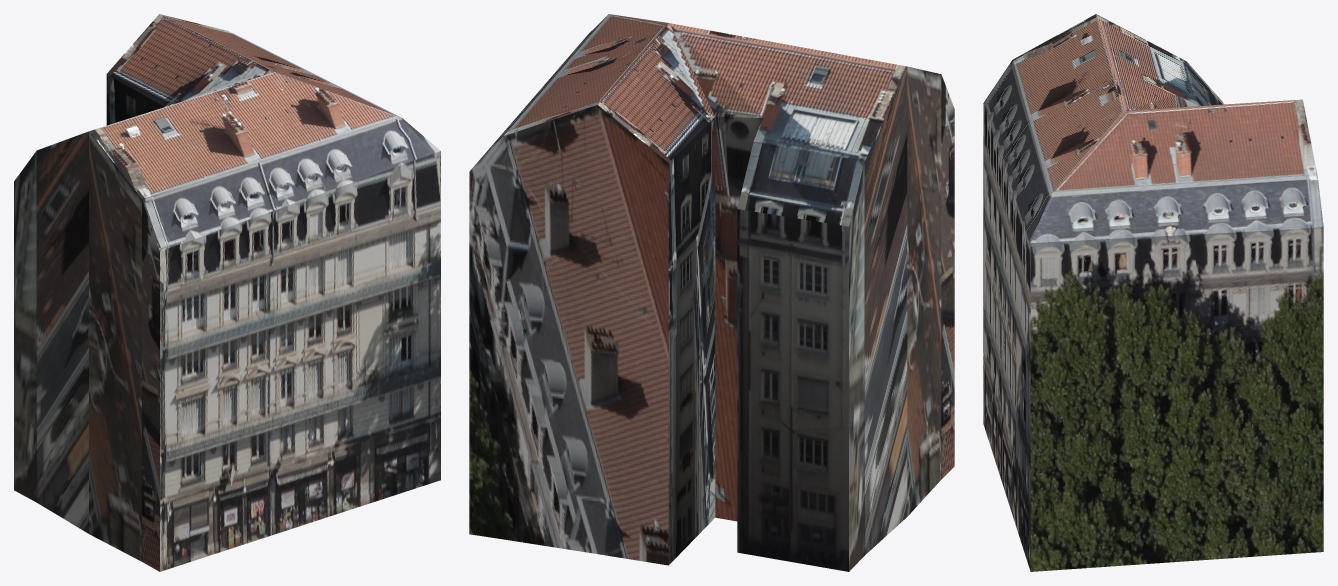
3 views of the same model, side by side, from view 1: azimuth 30°, elevation 25°; view 2: azimuth 150°, elevation 25°; view 3: azimuth 270°, elevation 25° (orthographic). The views are drawn at different scales.
Parts seen in each view (by area): view 1: Z_UP; view 2: Z_UP; view 3: Z_UP.
Part boxes in pixels (bbox=[...]): Z_UP: bbox=[14, 14, 440, 571]; Z_UP: bbox=[469, 14, 954, 571]; Z_UP: bbox=[983, 14, 1323, 571].
Bounding box in the file's own units: 25.23 × 29.43 × 22.54.
2 materials, 1 textured.
